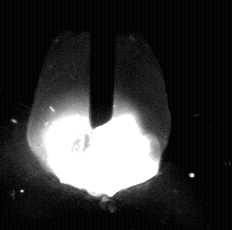arame: (91, 0, 115, 128)
poca: (26, 0, 170, 230)
